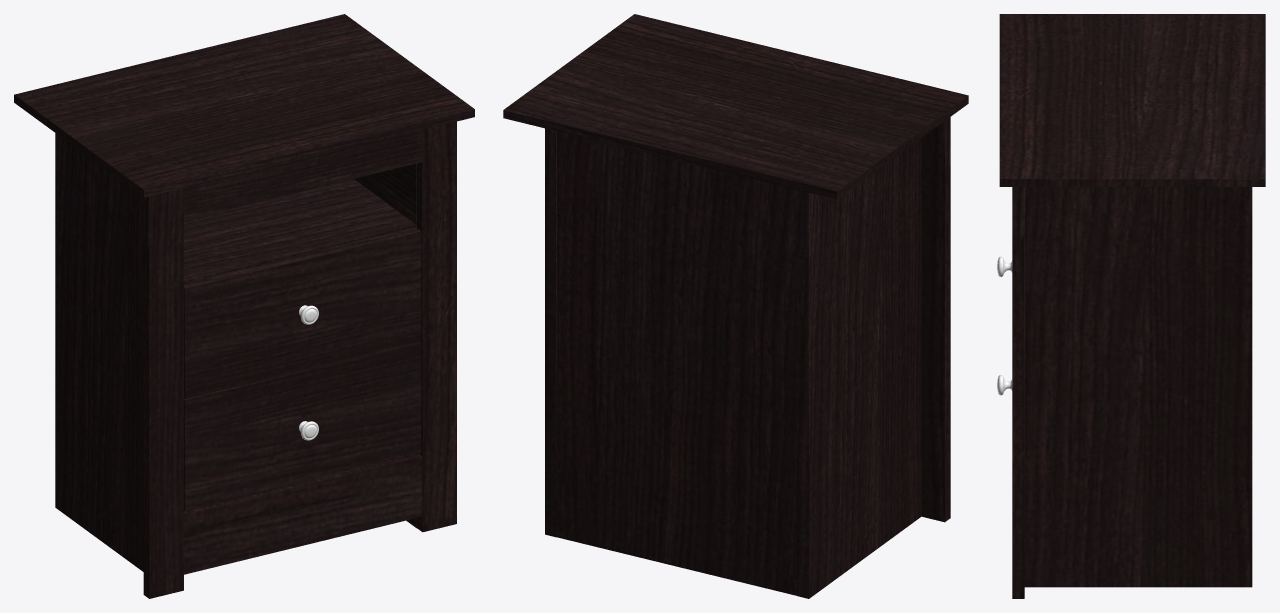
File: nightstand-2-drawer.glb
The picture shows the model from 3 angles, left to right: view 1: azimuth 30°, elevation 25°; view 2: azimuth 150°, elevation 25°; view 3: azimuth 270°, elevation 25°; orthographic projection. The views are drawn at different scales.
Parts seen in each view (by area): view 1: B07Q2MHLH1; view 2: B07Q2MHLH1; view 3: B07Q2MHLH1.
Boxes of the visible parts, x1,y1,x2,y2 form: B07Q2MHLH1: (14,14,474,598); B07Q2MHLH1: (503,14,968,598); B07Q2MHLH1: (997,14,1265,598).
Size of the model in its own units: 0.591 by 0.711 by 0.406.
1 material, 1 textured.
